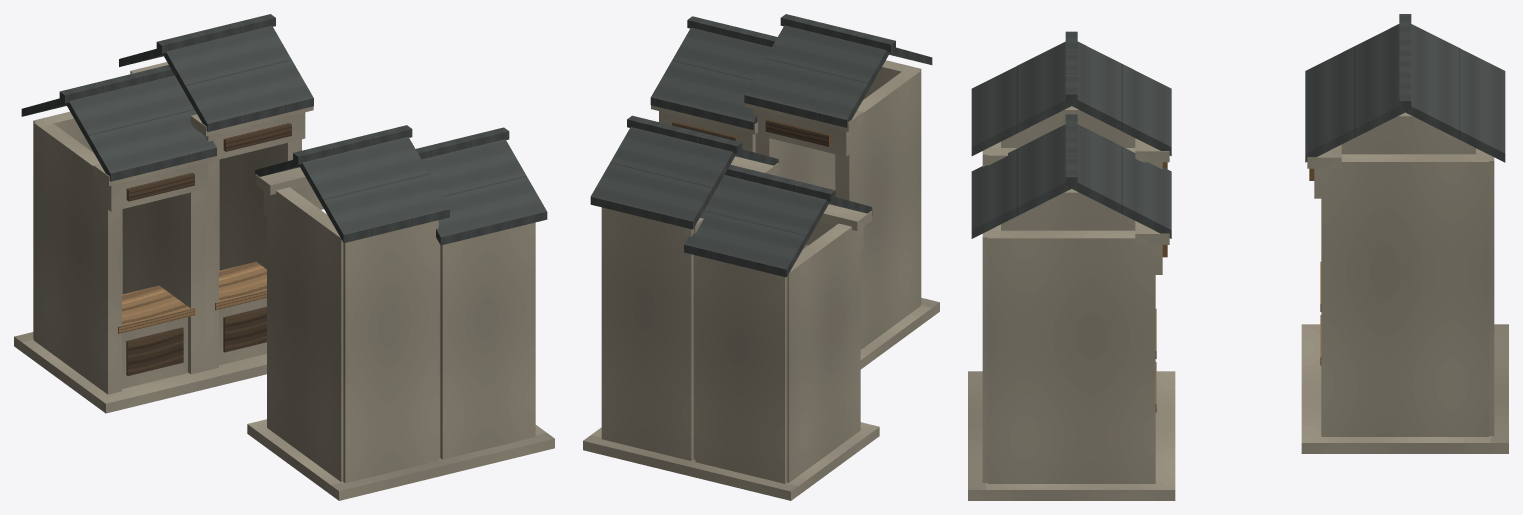
3 views of the same model, side by side, from view 1: azimuth 30°, elevation 25°; view 2: azimuth 150°, elevation 25°; view 3: azimuth 270°, elevation 25° (orthographic). The views are drawn at different scales.
Visible parts, largest first — view 1: lome; view 2: lome; view 3: lome.
Boxes of the visible parts, <box> form: lome: <box>14,14,554,500</box>; lome: <box>583,14,939,500</box>; lome: <box>968,14,1508,500</box>.
Size of the model in its own units: 2.53 by 2.5 by 3.48.
Materials: 1 (1 with a texture image).
